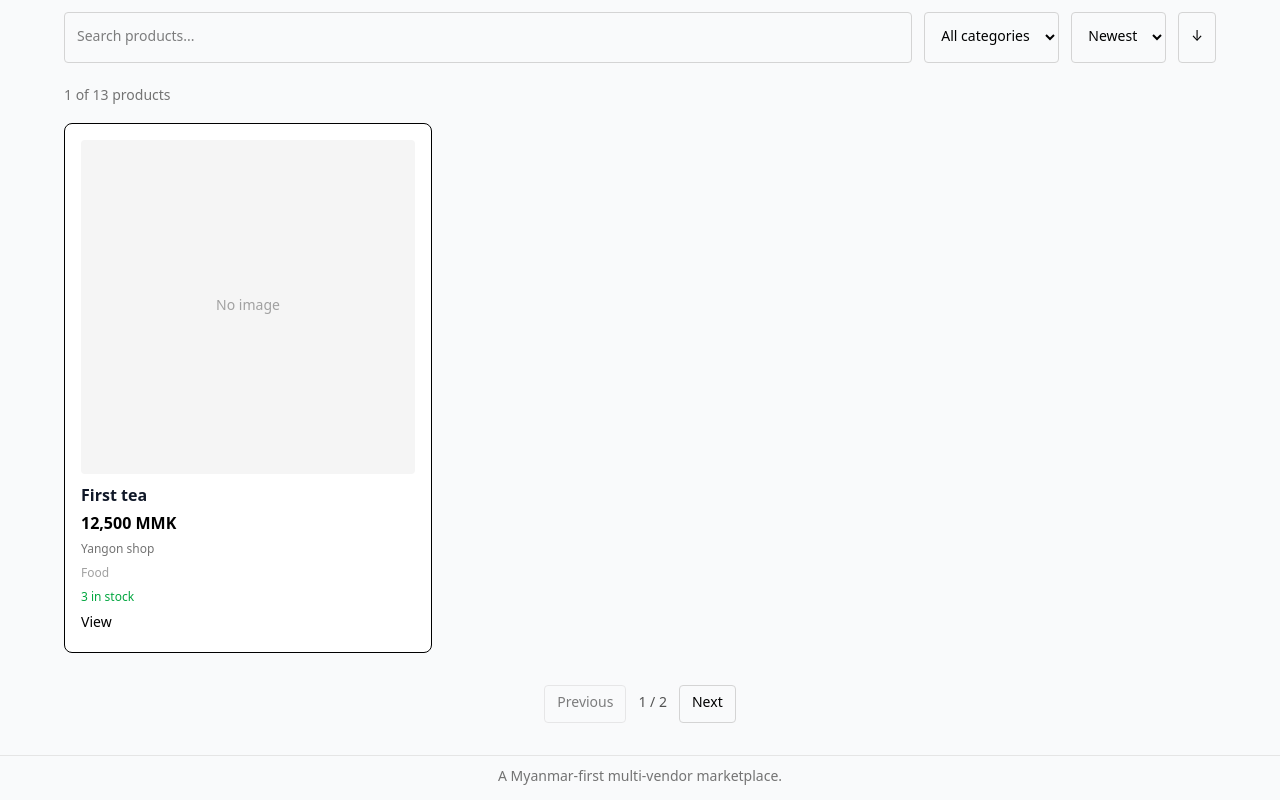
Test: CatalogPage › renders API products, changes pages, and resets pagination on category selection
(page scrolled)
Expected: the heading "First tea" is shown, [81, 480, 147, 515]
Expected: the text "12,500 MMK" is shown, [81, 508, 176, 543]
Click the button "Next" at (707,704), box [679, 685, 736, 723]
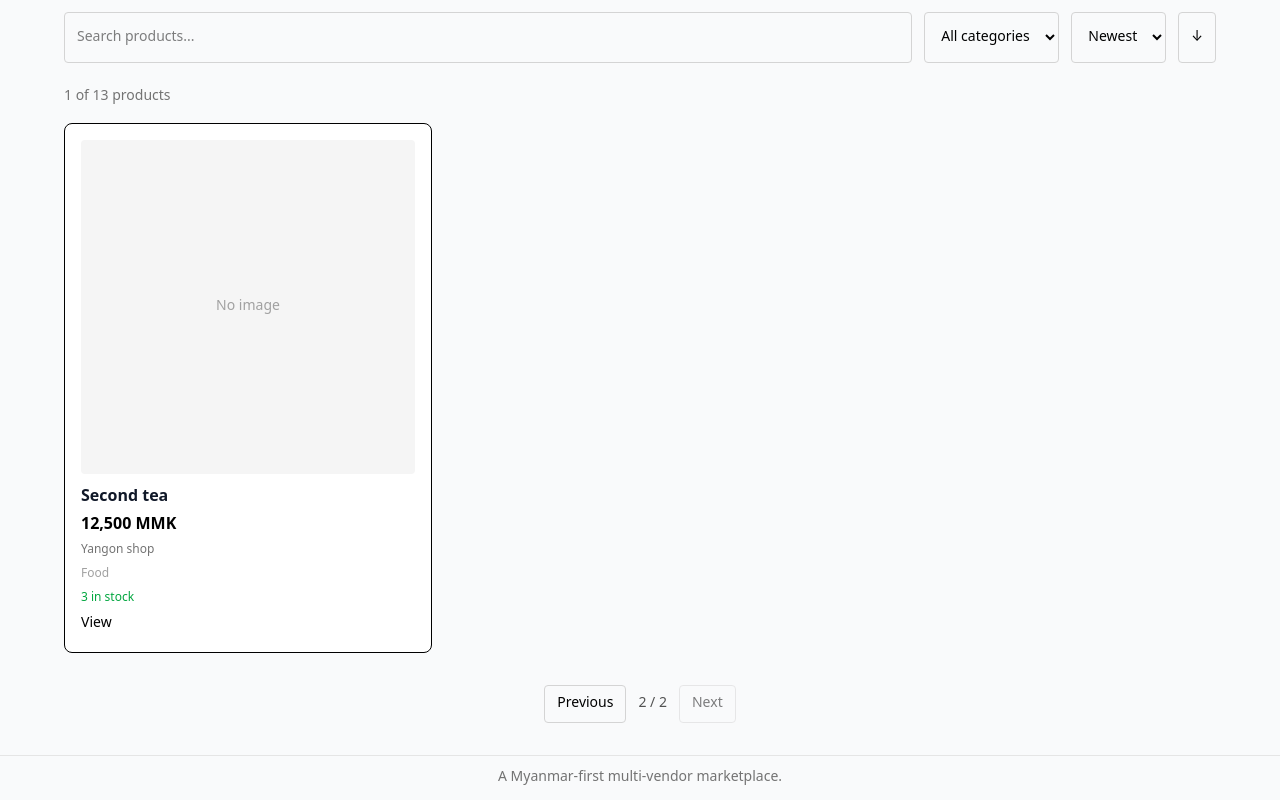
Now the heading "Second tea" is shown, box [81, 480, 168, 515]
Select "Food (13)" in the dropdown named "Category" at (992,38), box [924, 12, 1059, 63]
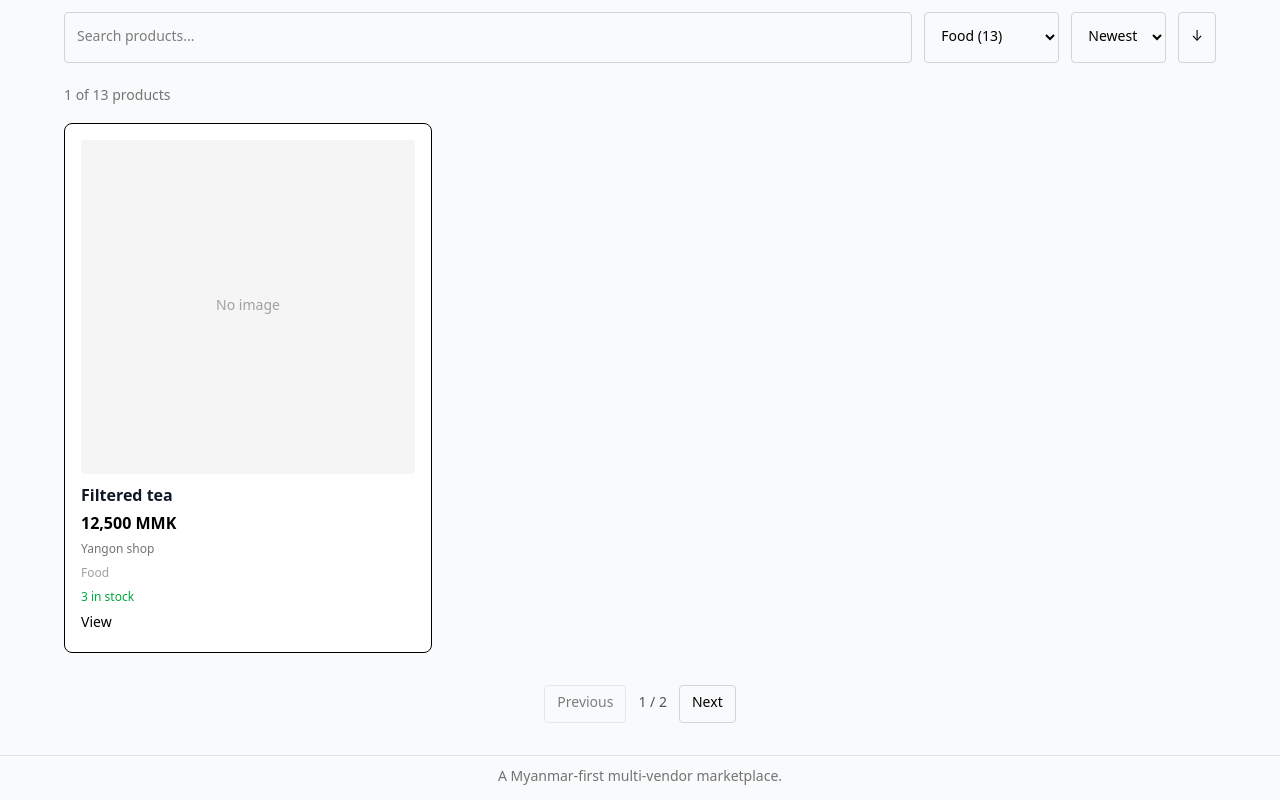
Now the heading "Filtered tea" is shown, box [81, 480, 173, 515]
